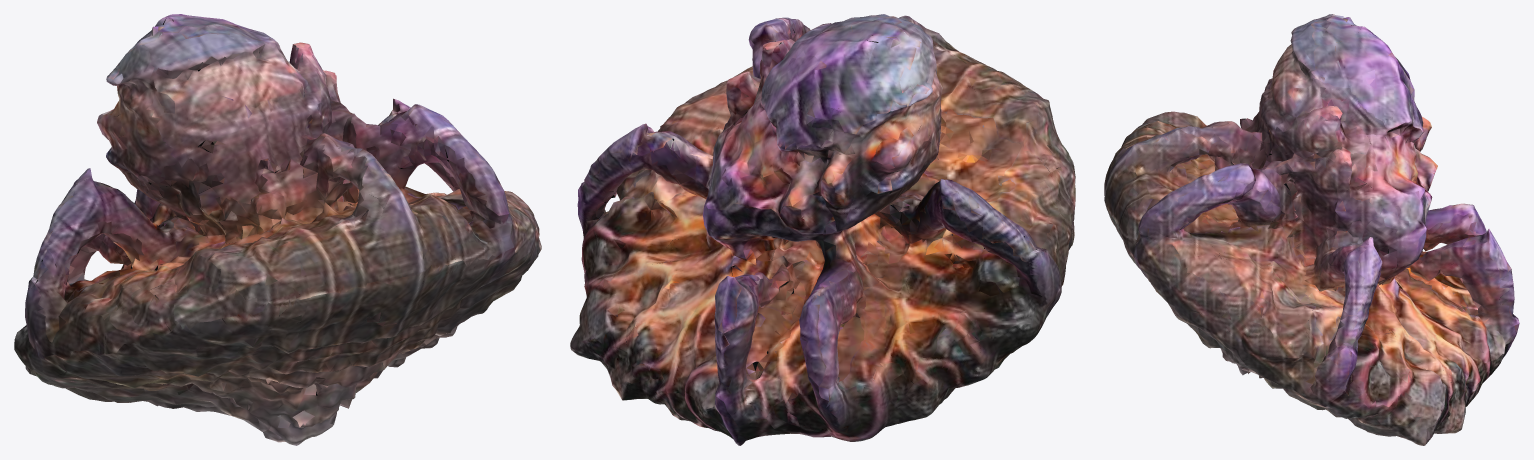
The model's file is krynn_bio_harvester_1792710245246.glb.
The picture shows the model from 3 angles, left to right: view 1: azimuth 30°, elevation 25°; view 2: azimuth 150°, elevation 25°; view 3: azimuth 270°, elevation 25°; orthographic projection. The views are drawn at different scales.
Parts seen in each view (by area): view 1: geometry_0; view 2: geometry_0; view 3: geometry_0.
Boxes of the visible parts, x1,y1,x2,y2 form: geometry_0: [14, 14, 541, 445]; geometry_0: [570, 14, 1075, 445]; geometry_0: [1104, 14, 1519, 445].
Bounding box in the file's own units: 0.9708 × 0.7596 × 0.8617.
Materials: 1 (1 with a texture image).
